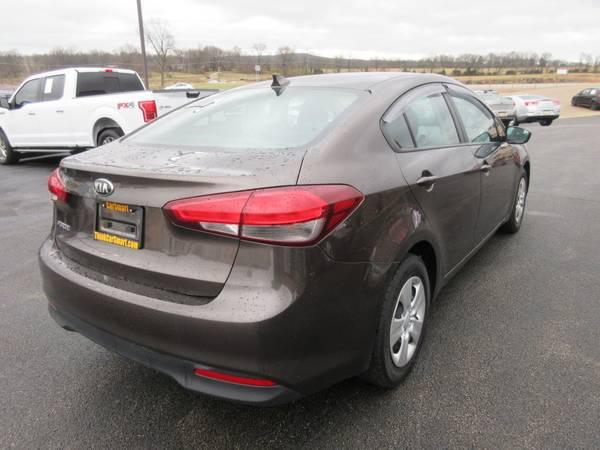Front_Right_Door: (468, 142, 519, 246)
Front_Right_Window: (450, 85, 513, 147)
Left_Taillight: (47, 164, 73, 200)
Rear_Bumper: (41, 233, 391, 404)
Rear_Fender: (298, 112, 428, 276)
Rear_Right_Door: (394, 146, 481, 292)
Rear_Right_Window: (381, 83, 471, 154)
Rear_Windshield: (126, 83, 377, 152)
Right_Taillight: (165, 183, 364, 246)
Roof: (253, 70, 474, 125)
Tailgate: (54, 137, 312, 296)
Wheel: (380, 255, 436, 381), (512, 172, 532, 225)
